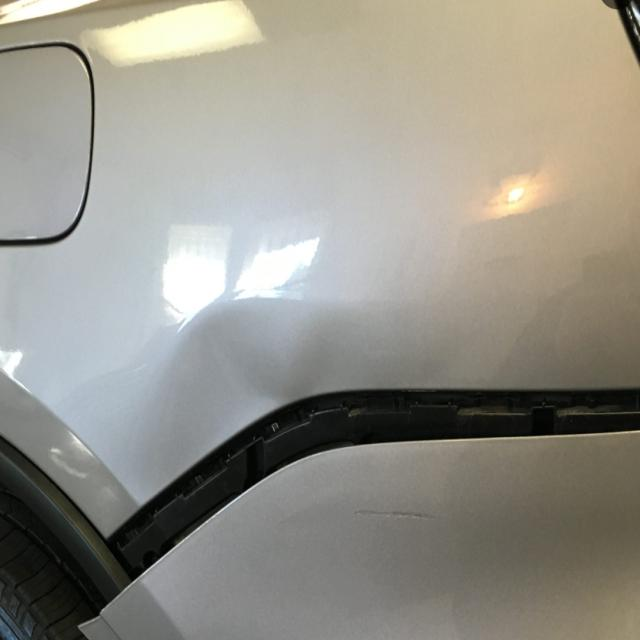dents: (154, 314, 430, 476)
